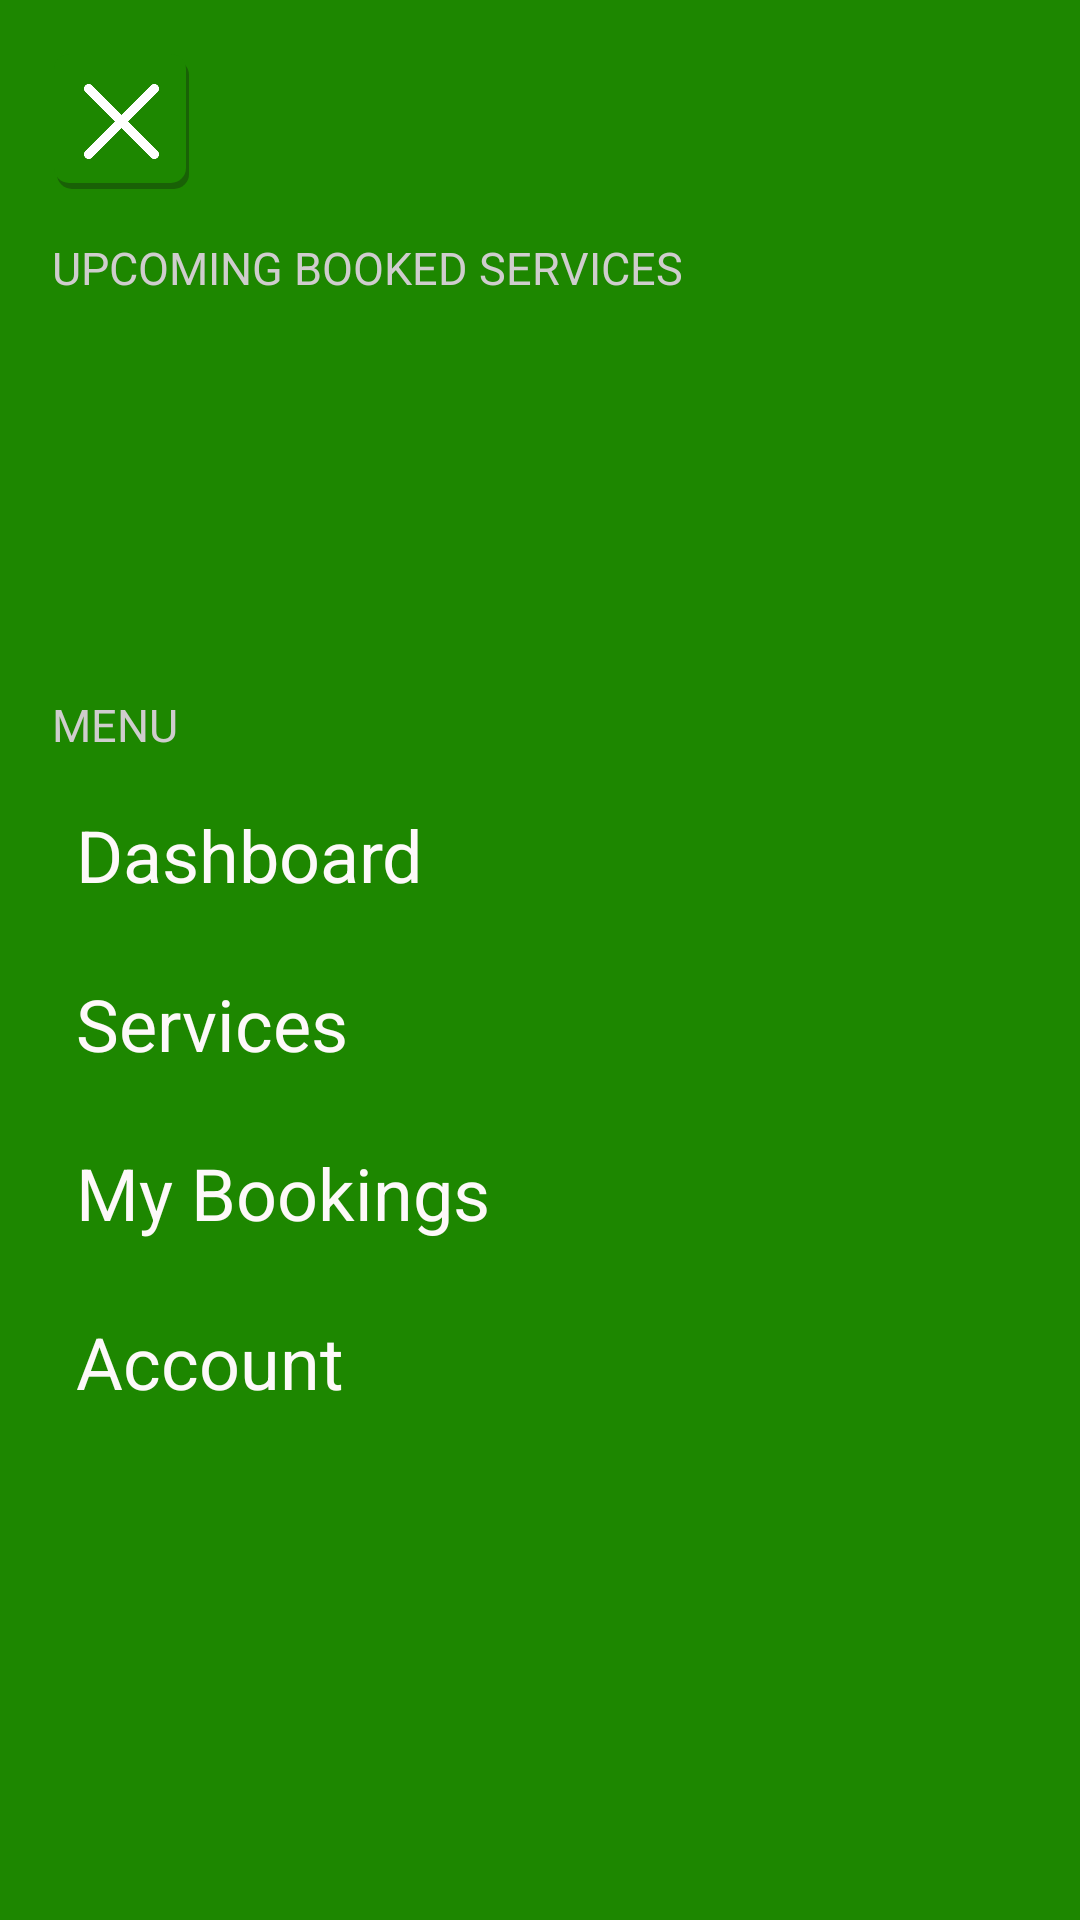

Screen size 1080x1920. Icon name, then its box in pixels as (x1, y1, x2, y2):
cross: (58, 67, 189, 189)
